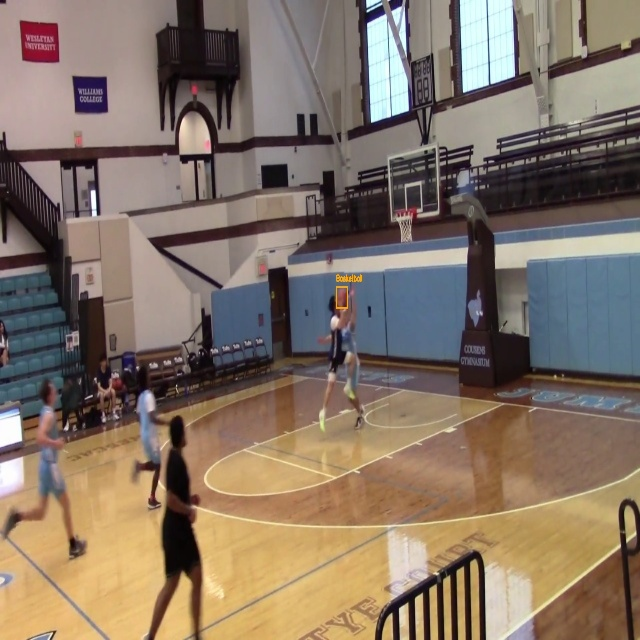Basketball: (336, 287, 347, 308)
